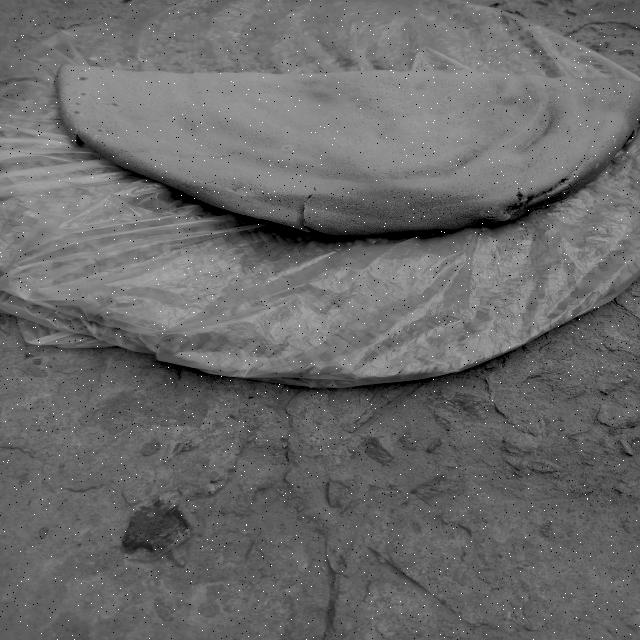injera_mold: (62, 114, 71, 125), (61, 104, 73, 112), (75, 128, 88, 135), (282, 144, 293, 151), (90, 134, 100, 140), (110, 102, 120, 107), (78, 76, 89, 80), (594, 163, 600, 169), (612, 138, 618, 144), (73, 110, 81, 114), (74, 102, 82, 106), (80, 92, 87, 96), (100, 68, 105, 71), (447, 96, 451, 99), (610, 94, 614, 97), (242, 194, 247, 196), (97, 129, 102, 131), (80, 70, 85, 72), (99, 76, 102, 78), (607, 138, 610, 140), (600, 89, 602, 92), (65, 84, 70, 85), (252, 190, 254, 192), (64, 72, 66, 74), (606, 161, 608, 163), (601, 92, 603, 94), (247, 185, 250, 186), (237, 190, 240, 191), (106, 104, 109, 105), (604, 95, 607, 96), (607, 96, 610, 97), (61, 75, 62, 77), (61, 73, 62, 75), (609, 100, 611, 101), (619, 91, 621, 92), (242, 190, 243, 190), (614, 100, 616, 100)
